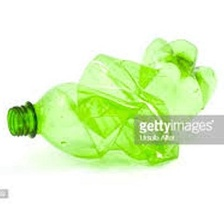bottle: (5, 36, 220, 170)
